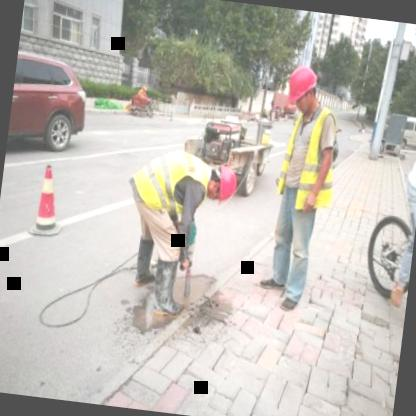helmet: (280, 60, 322, 118), (202, 162, 242, 204)
